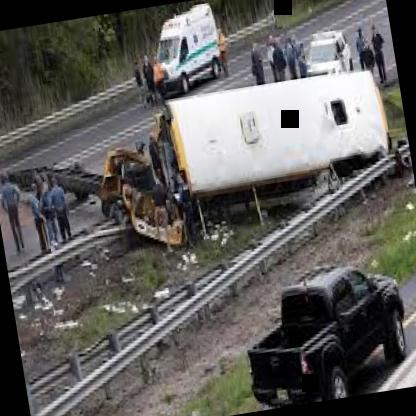accident: (22, 53, 415, 270)
